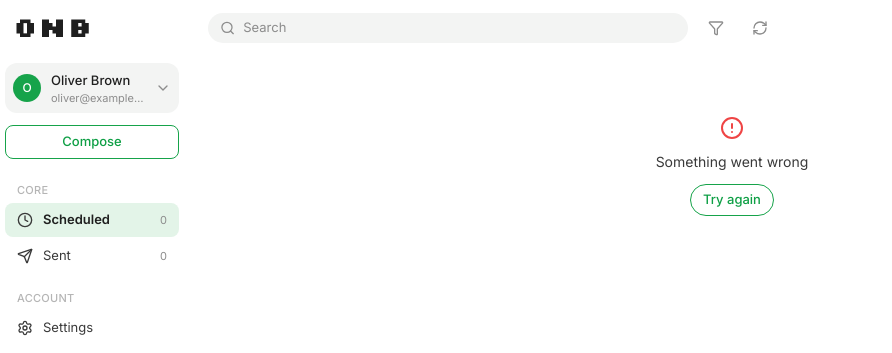
Test: mailbox views › shows a loading skeleton, then an error state with retry
The image size is (892, 353).
Later steps or results of the test are not shown.
Expected: the message shows "Something went wrong", [656,153,808,170]
What coordinates should you click on to do the following:
click the button "Try again"
I would click on:
 (732, 200)
Its box is [690,184,774,216].
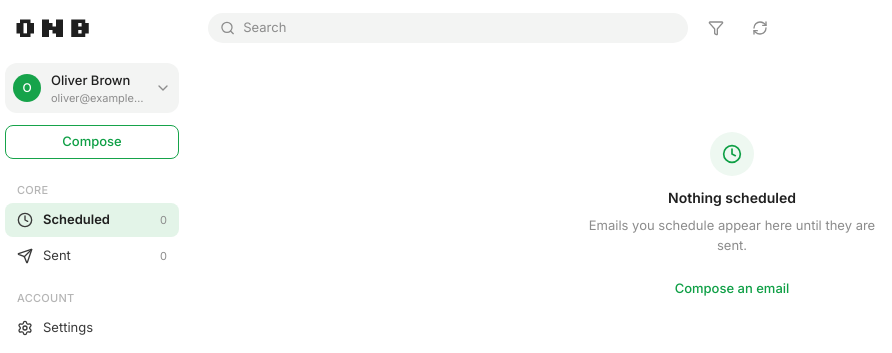
Now the heading "Nothing scheduled" is shown, box [668,188,796,208]
